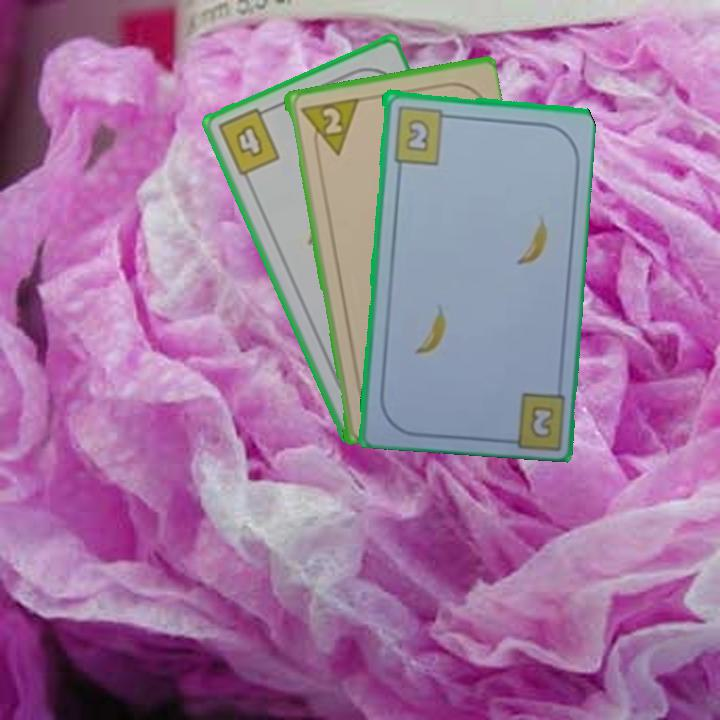2b: (389, 102, 455, 166), (528, 406, 554, 438)
2p: (296, 94, 360, 160)
4b: (213, 103, 283, 179)
